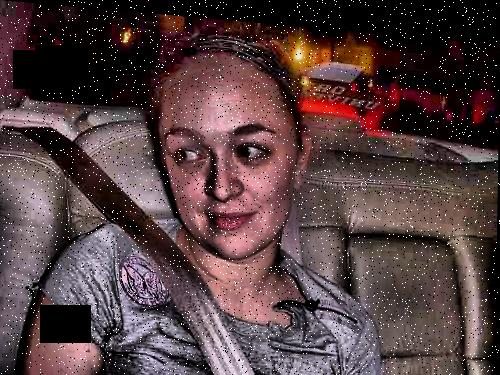seatbelt: (47, 116, 262, 375)
